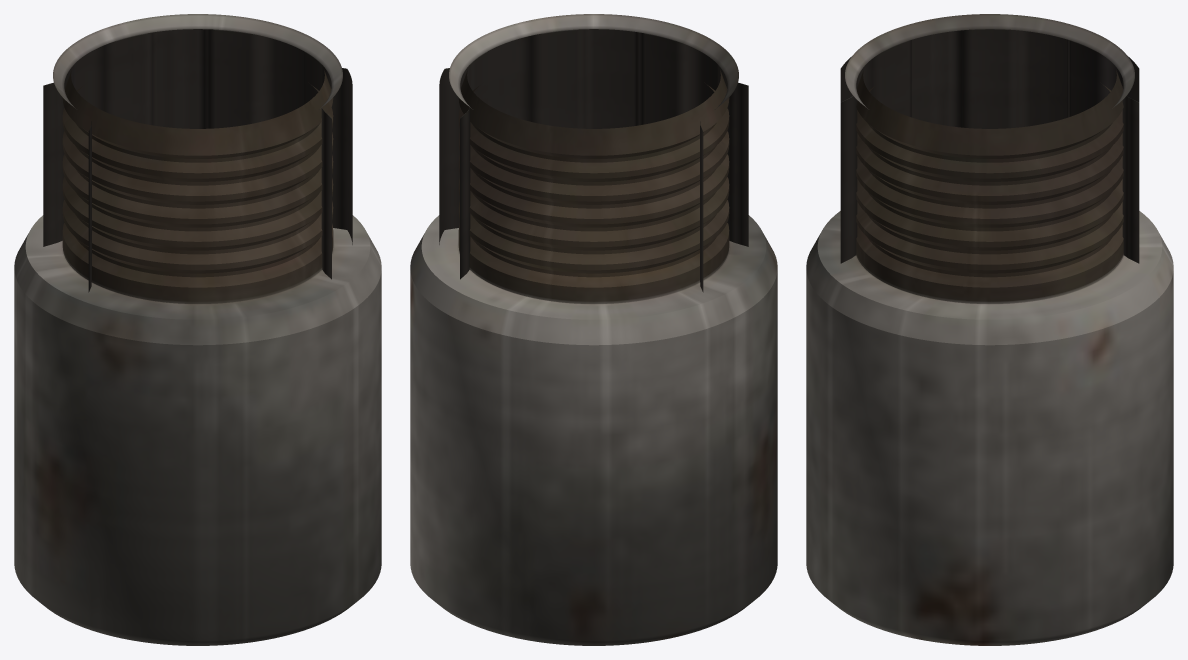
The model's file is SM_DriverSub_4po.glb.
The picture shows the model from 3 angles, left to right: view 1: azimuth 30°, elevation 25°; view 2: azimuth 150°, elevation 25°; view 3: azimuth 270°, elevation 25°; orthographic projection.
Visible parts, largest first — view 1: DriverSub_4po; view 2: DriverSub_4po; view 3: DriverSub_4po.
Part boxes in pixels (x1=…): DriverSub_4po: x1=14, y1=14, x2=381, y2=645; DriverSub_4po: x1=410, y1=14, x2=777, y2=645; DriverSub_4po: x1=806, y1=14, x2=1173, y2=645.
Size of the model in its own units: 0.097 by 0.145 by 0.097.
Materials: 1 (1 with a texture image).
